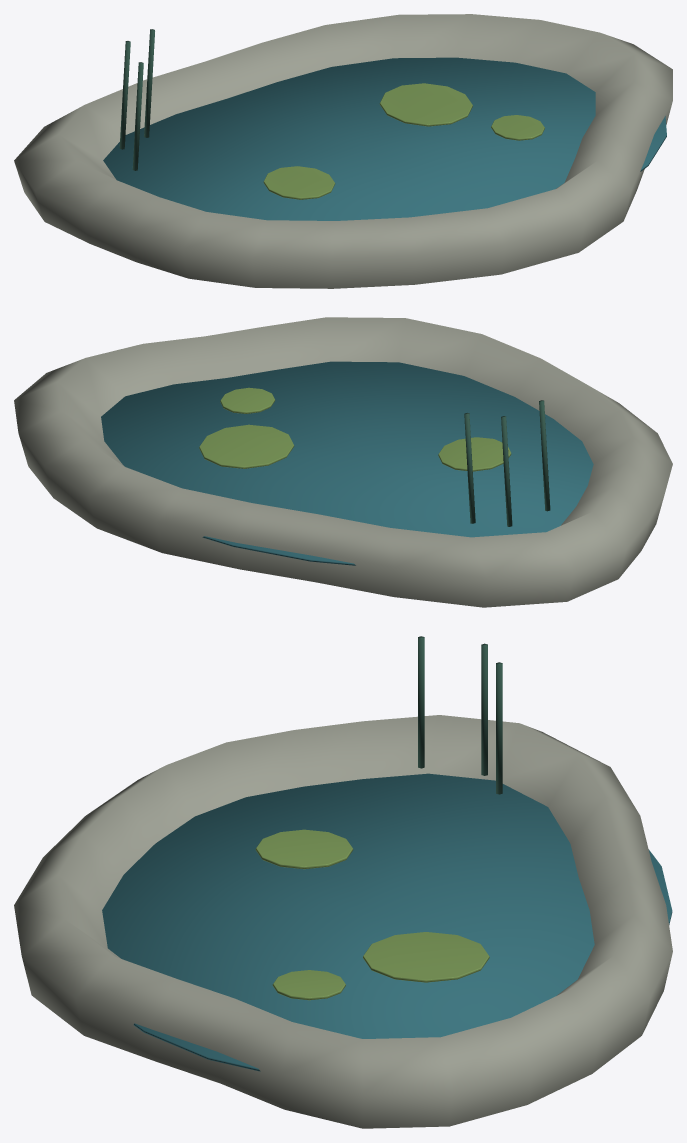
Rendered from S071_scenic_pond_rebuilt.glb.
The picture shows the model from 3 angles, top to bottom: view 1: azimuth 30°, elevation 25°; view 2: azimuth 150°, elevation 25°; view 3: azimuth 270°, elevation 25°; orthographic projection. The views are drawn at different scales.
Visible parts, largest first — view 1: Weathered_light_stone, Still_scenic_bluegreen_water, Lily_pad_muted_green, Deep_green_outdoor_paint; view 2: Weathered_light_stone, Still_scenic_bluegreen_water, Lily_pad_muted_green, Deep_green_outdoor_paint; view 3: Weathered_light_stone, Still_scenic_bluegreen_water, Lily_pad_muted_green, Deep_green_outdoor_paint.
Part boxes in pixels (bbox=[...]): Weathered_light_stone: bbox=[14, 14, 672, 288]; Still_scenic_bluegreen_water: bbox=[103, 57, 666, 220]; Lily_pad_muted_green: bbox=[263, 83, 544, 199]; Deep_green_outdoor_paint: bbox=[119, 29, 154, 170]; Weathered_light_stone: bbox=[14, 317, 672, 607]; Still_scenic_bluegreen_water: bbox=[101, 361, 593, 565]; Lily_pad_muted_green: bbox=[199, 387, 511, 471]; Deep_green_outdoor_paint: bbox=[464, 400, 550, 526]; Weathered_light_stone: bbox=[14, 715, 672, 1128]; Still_scenic_bluegreen_water: bbox=[102, 773, 672, 1071]; Lily_pad_muted_green: bbox=[255, 829, 489, 1000]; Deep_green_outdoor_paint: bbox=[418, 636, 502, 794].
Bounding box in the file's own units: 2.95 × 0.6804 × 2.21.
